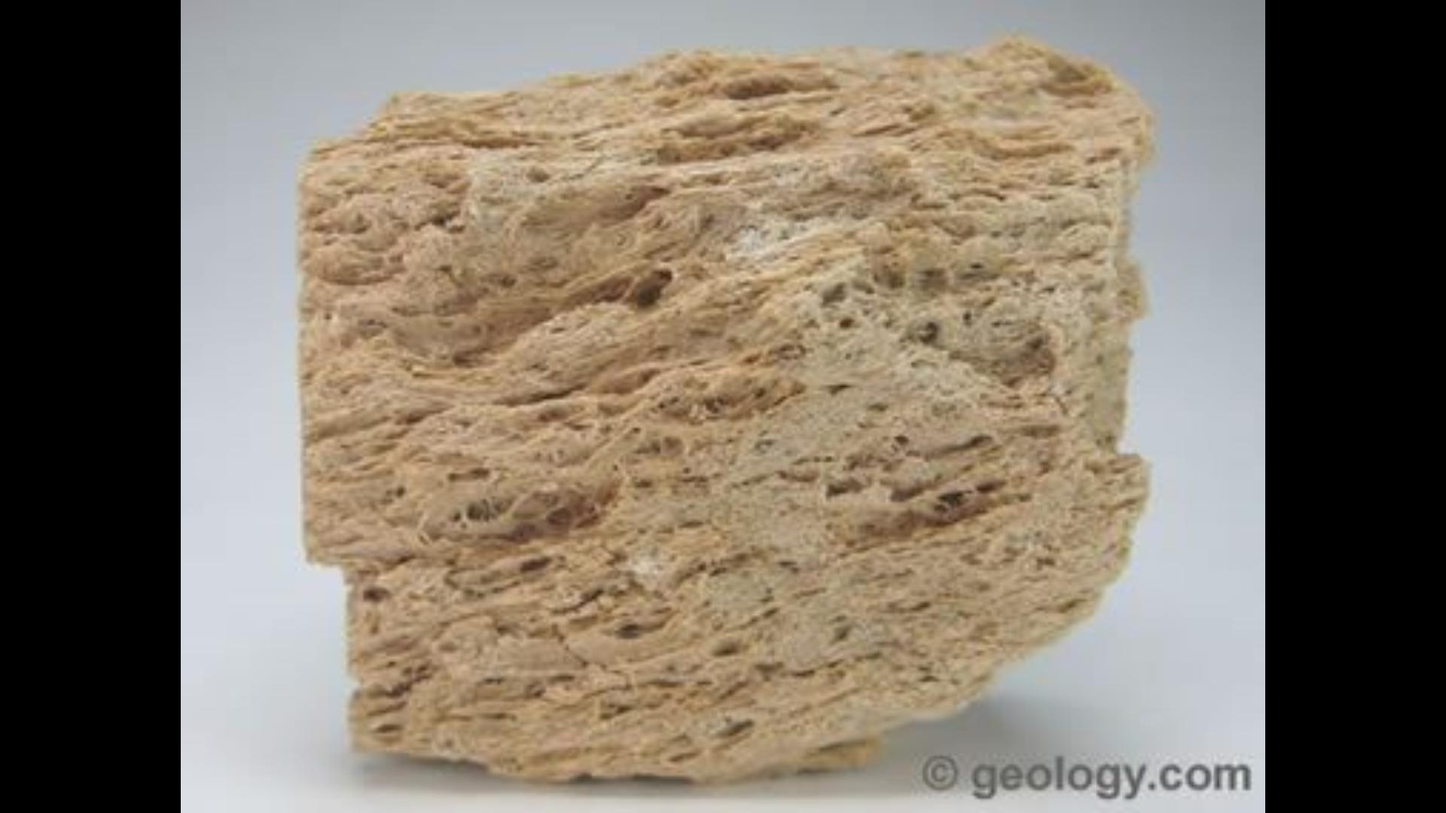rock: (301, 40, 1148, 779)
